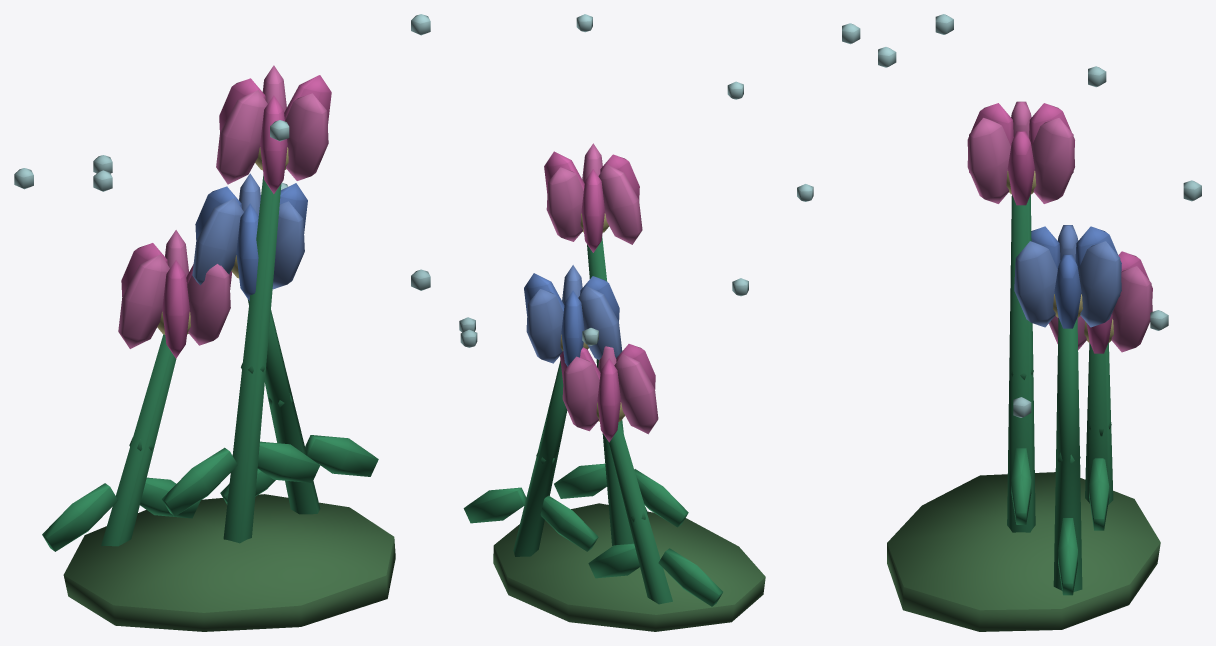
The model's file is glow_flower.glb.
3 renders of one model, left to right at view 1: azimuth 30°, elevation 25°; view 2: azimuth 150°, elevation 25°; view 3: azimuth 270°, elevation 25°, orthographic. The views are drawn at different scales.
Visible parts, largest first — view 1: glow_flower; view 2: glow_flower; view 3: glow_flower.
Part boxes in pixels (box(x1,y1,x2,y2)): glow_flower: box(14, 14, 430, 631); glow_flower: box(459, 14, 813, 631); glow_flower: box(842, 14, 1201, 631).
Bounding box in the file's own units: 1.1 × 1.67 × 0.9251.
